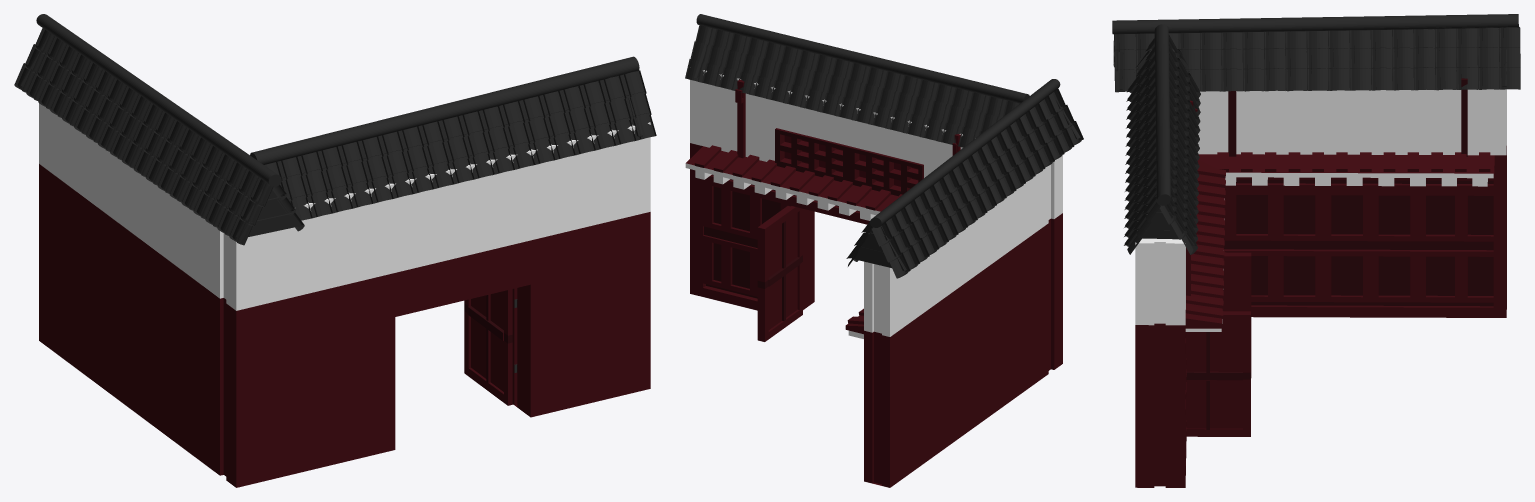
File: build5.glb
3 views of the same model, side by side, from view 1: azimuth 30°, elevation 25°; view 2: azimuth 150°, elevation 25°; view 3: azimuth 270°, elevation 25° (orthographic). The views are drawn at different scales.
Visible parts, largest first — view 1: 門, 瓦, 瓦.001, ドア2, 瓦3.001; view 2: 門, 瓦, 瓦.001, ドア2, 門2, 瓦2.001; view 3: 門, 瓦.001, 瓦, ドア2, 門2, 門2.001, ドア, 瓦2.
Part boxes in pixels (x1=…): 門: x1=39, y1=103, x2=650, y2=487; 瓦: x1=250, y1=56, x2=656, y2=220; 瓦.001: x1=14, y1=14, x2=304, y2=245; ドア2: x1=464, y1=289, x2=512, y2=405; 瓦3.001: x1=236, y1=189, x2=301, y2=238; 門: x1=685, y1=70, x2=1062, y2=487; 瓦: x1=685, y1=14, x2=1029, y2=147; 瓦.001: x1=846, y1=79, x2=1083, y2=278; ドア2: x1=757, y1=206, x2=802, y2=341; 門2: x1=694, y1=145, x2=902, y2=210; 瓦2.001: x1=852, y1=226, x2=906, y2=271; 門: x1=1135, y1=78, x2=1506, y2=487; 瓦.001: x1=1112, y1=14, x2=1520, y2=92; 瓦: x1=1124, y1=24, x2=1200, y2=254; ドア2: x1=1186, y1=311, x2=1250, y2=436; 門2: x1=1185, y1=166, x2=1225, y2=318; 門2.001: x1=1217, y1=152, x2=1490, y2=171; ドア: x1=1222, y1=252, x2=1251, y2=377; 瓦2: x1=1128, y1=205, x2=1194, y2=245.
Bounding box in the file's own units: 3.1 × 2.19 × 2.76.
